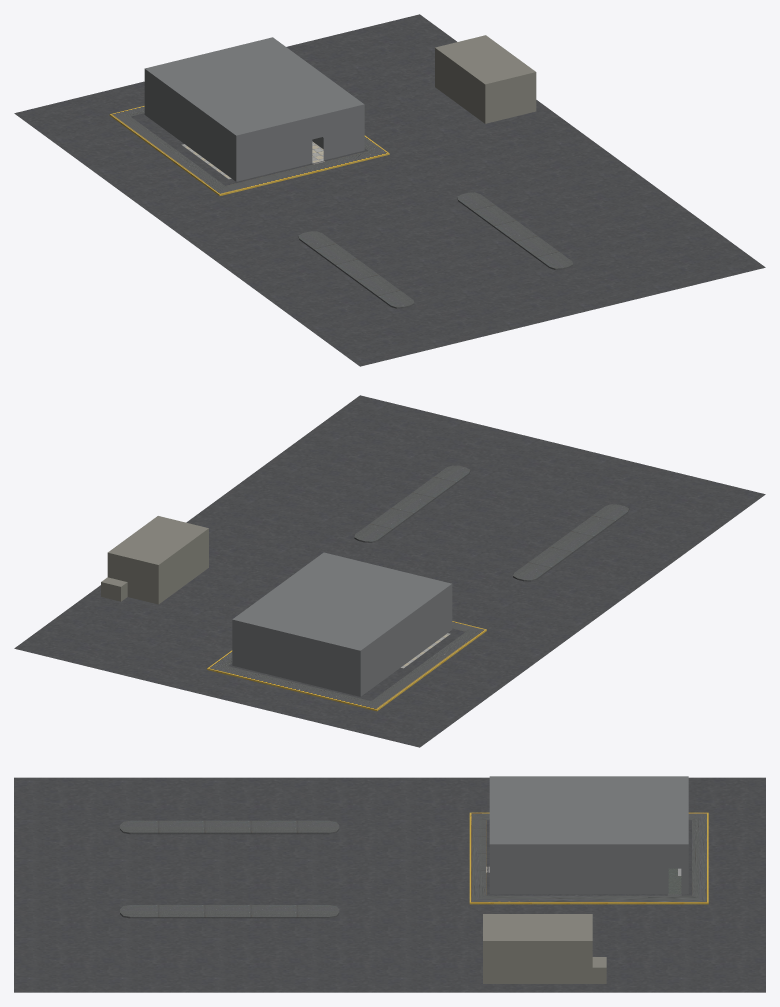
Rendered from GasstationSimplified.fbx.
3 renders of one model, top to bottom at view 1: azimuth 30°, elevation 25°; view 2: azimuth 150°, elevation 25°; view 3: azimuth 270°, elevation 25°, orthographic. The views are drawn at different scales.
Parts seen in each view (by area): view 1: AsphaltDamaged_AsphaltDamaged_0, 6twelve_Plaster_0.001, Bathrooms_Brick_0.001, Asphalt_01_Asphalt_0, Sidewalk_Asphalt_0, Sidewalk_01_Asphalt_0; view 2: AsphaltDamaged_AsphaltDamaged_0, 6twelve_Plaster_0.001, Bathrooms_Brick_0.001, Asphalt_01_Asphalt_0, Sidewalk_01_Asphalt_0, Sidewalk_Asphalt_0; view 3: AsphaltDamaged_AsphaltDamaged_0, 6twelve_Plaster_0.001, Bathrooms_Brick_0.001, Asphalt_01_Asphalt_0, Sidewalk_01_Asphalt_0, Sidewalk_Asphalt_0, Bathrooms_Brick_0.002.
Part boxes in pixels (bbox=[...]): AsphaltDamaged_AsphaltDamaged_0: bbox=[14, 14, 765, 366]; 6twelve_Plaster_0.001: bbox=[144, 37, 364, 181]; Bathrooms_Brick_0.001: bbox=[435, 35, 536, 123]; Asphalt_01_Asphalt_0: bbox=[109, 106, 389, 195]; Sidewalk_Asphalt_0: bbox=[457, 192, 573, 269]; Sidewalk_01_Asphalt_0: bbox=[298, 231, 414, 308]; AsphaltDamaged_AsphaltDamaged_0: bbox=[14, 395, 765, 747]; 6twelve_Plaster_0.001: bbox=[232, 552, 452, 696]; Bathrooms_Brick_0.001: bbox=[107, 516, 208, 604]; Asphalt_01_Asphalt_0: bbox=[207, 621, 486, 711]; Sidewalk_01_Asphalt_0: bbox=[513, 504, 629, 581]; Sidewalk_Asphalt_0: bbox=[354, 465, 470, 542]; AsphaltDamaged_AsphaltDamaged_0: bbox=[14, 777, 765, 992]; 6twelve_Plaster_0.001: bbox=[489, 776, 688, 894]; Bathrooms_Brick_0.001: bbox=[483, 914, 592, 983]; Asphalt_01_Asphalt_0: bbox=[469, 812, 708, 904]; Sidewalk_01_Asphalt_0: bbox=[120, 820, 339, 834]; Sidewalk_Asphalt_0: bbox=[120, 905, 339, 918]; Bathrooms_Brick_0.002: bbox=[592, 957, 606, 983].
Size of the model in its own units: 3584 by 404 by 5293.
